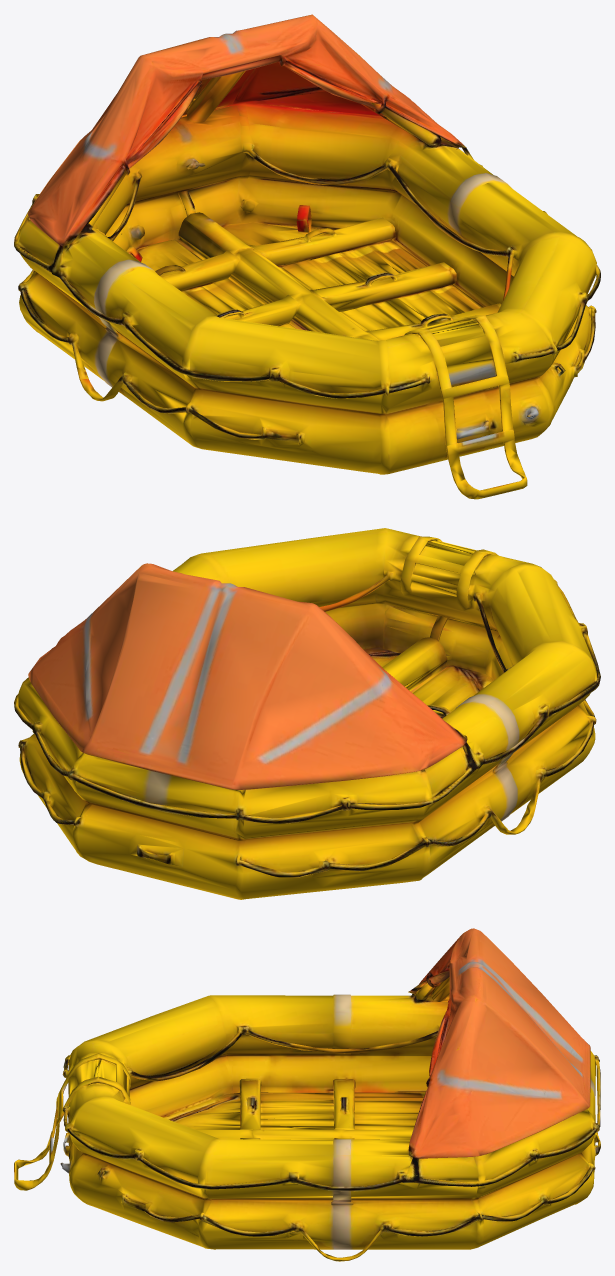
Rendered from raft.glb.
The picture shows the model from 3 angles, top to bottom: view 1: azimuth 30°, elevation 25°; view 2: azimuth 150°, elevation 25°; view 3: azimuth 270°, elevation 25°; orthographic projection. The views are drawn at different scales.
Visible parts, largest first — view 1: node_0; view 2: node_0; view 3: node_0.
Part boxes in pixels (box(x1,y1,x2,y2)): node_0: box(14, 14, 600, 499); node_0: box(14, 528, 600, 899); node_0: box(14, 928, 600, 1261).
Size of the model in its own units: 0.7921 by 0.4542 by 1.12.
Materials: 1 (1 with a texture image).
